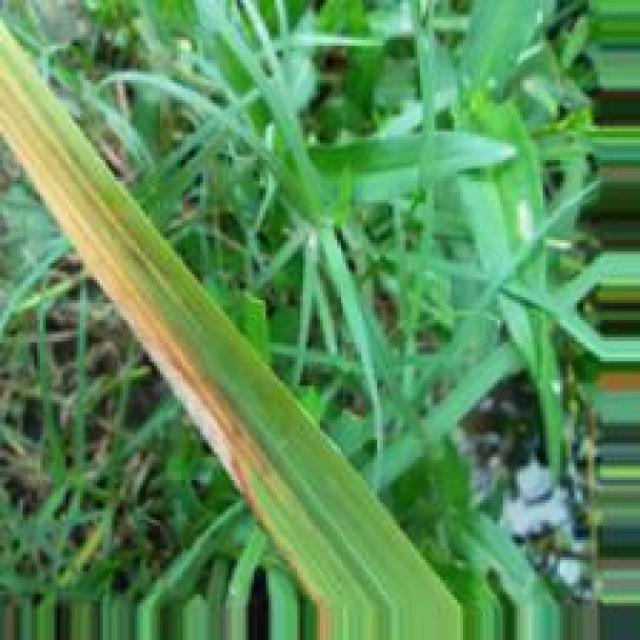Leaf_Blast: (124, 314, 257, 496)
